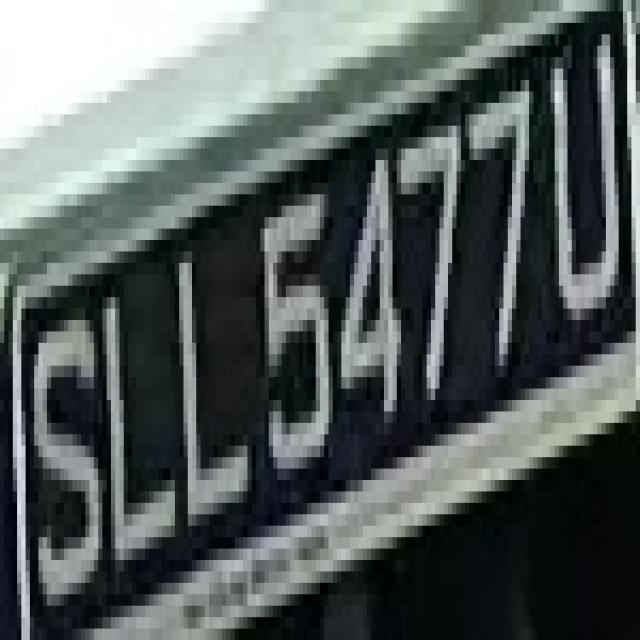4: (324, 114, 406, 434)
5: (247, 171, 333, 480)
7: (448, 57, 538, 389), (388, 103, 469, 400)
L: (94, 274, 171, 617), (175, 229, 247, 560)
S: (21, 274, 107, 640)
U: (542, 34, 619, 377)
